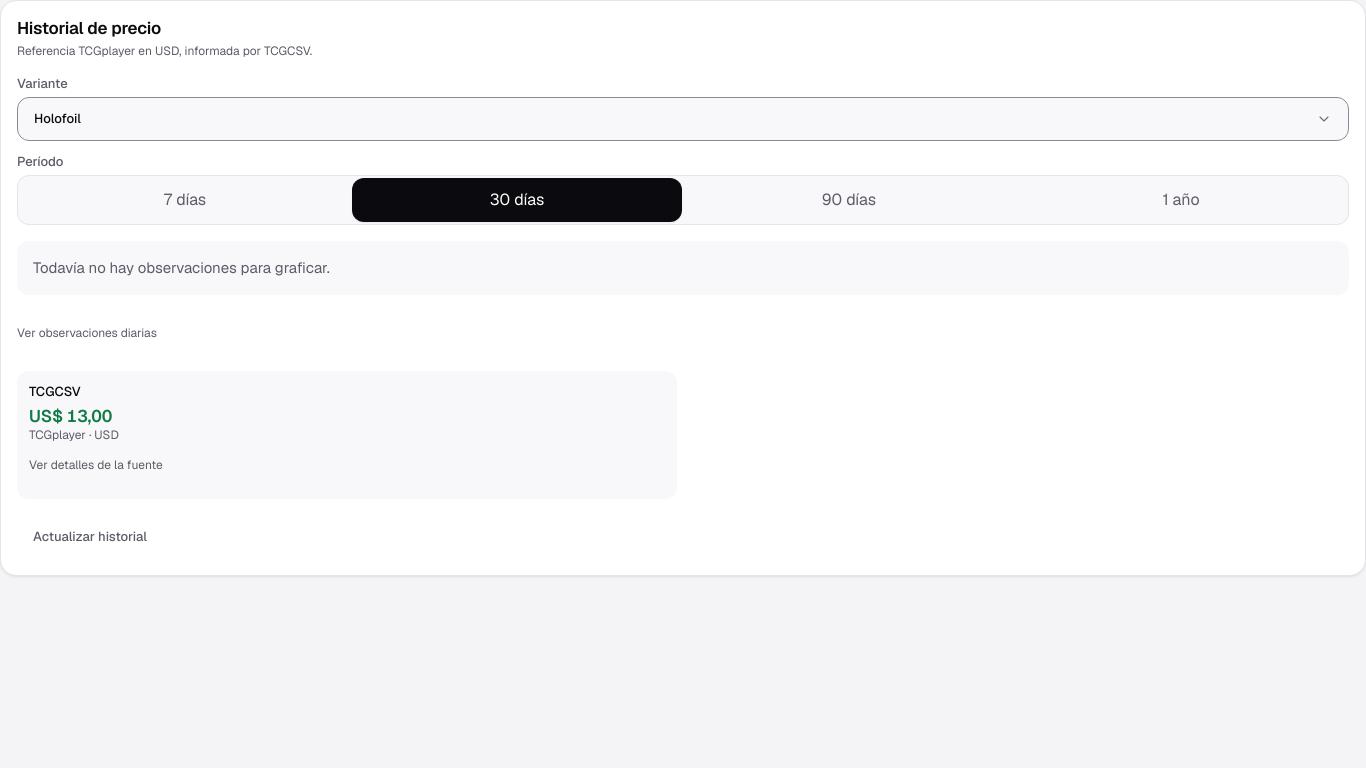
Scenario: Variantes reales de la carta › ofrece sólo las variantes conocidas y arranca con la referencia de precio
The width and height of the screenshot is (1366, 768).
Click the dropdown named "Variante de la carta del historial".
click(57, 118)  # box x1=17 y1=97 x2=1349 y2=141
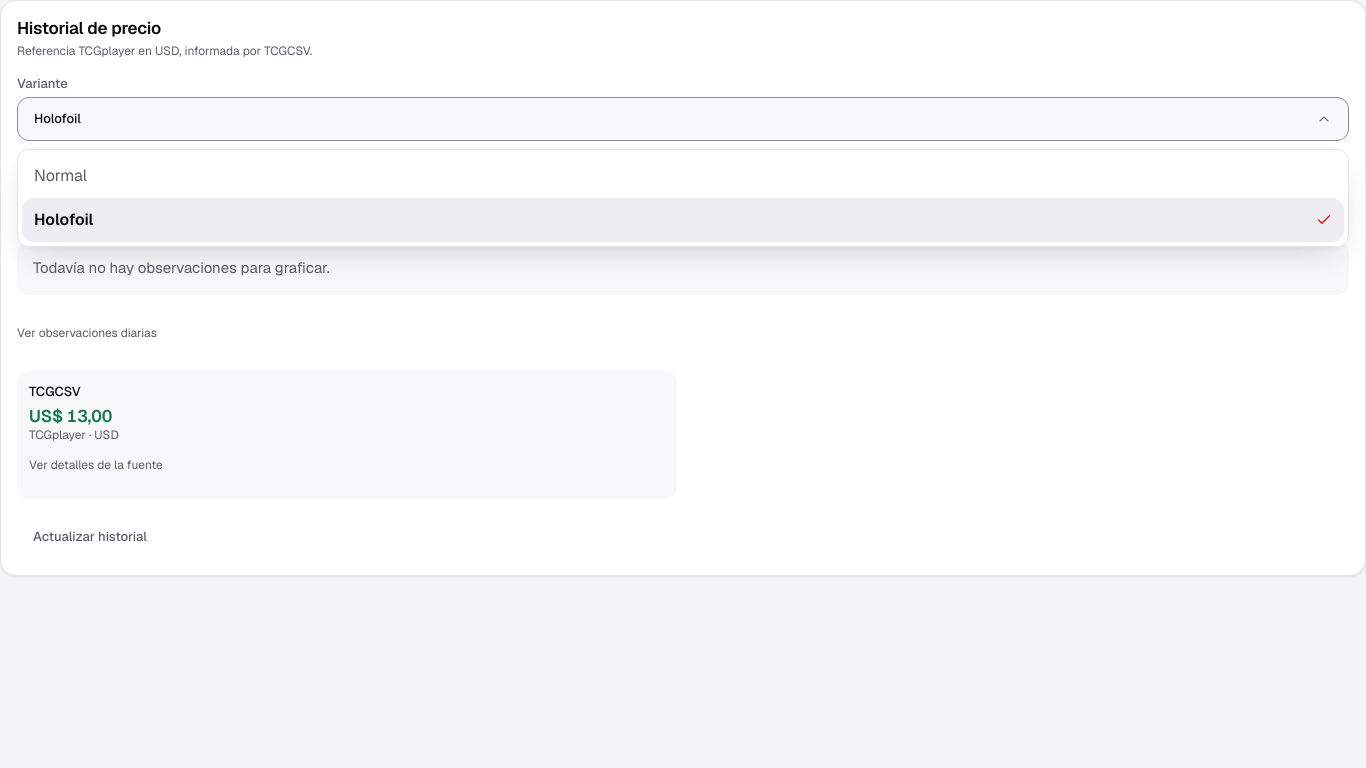
Expected: the number of options is 2, x1=34 y1=165 x2=87 y2=186; x1=22 y1=198 x2=1344 y2=242
